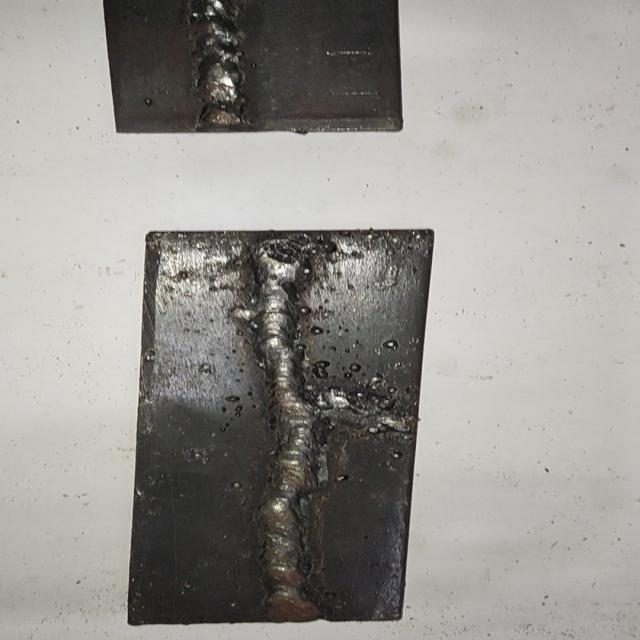Bad Weld: (250, 236, 314, 616)
Defect: (256, 379, 414, 438), (238, 234, 332, 272)
Good Weld: (190, 0, 249, 126)
